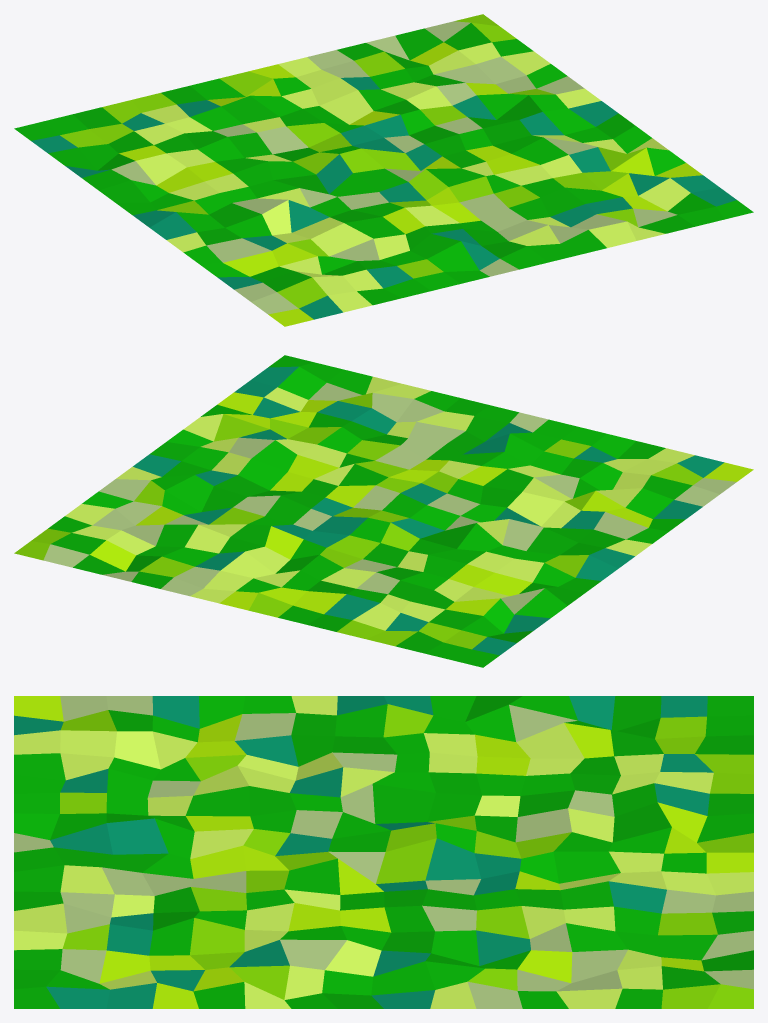
Rendered from grass_7.glb.
3 renders of one model, top to bottom at view 1: azimuth 30°, elevation 25°; view 2: azimuth 150°, elevation 25°; view 3: azimuth 270°, elevation 25°, orthographic. The views are drawn at different scales.
Visible parts, largest first — view 1: grass; view 2: grass; view 3: grass.
Part boxes in pixels (<box>): grass: <box>14,14,753,326</box>; grass: <box>14,355,753,667</box>; grass: <box>14,696,753,1008</box>.
Size of the model in its own units: 4 by 0.1729 by 4.
